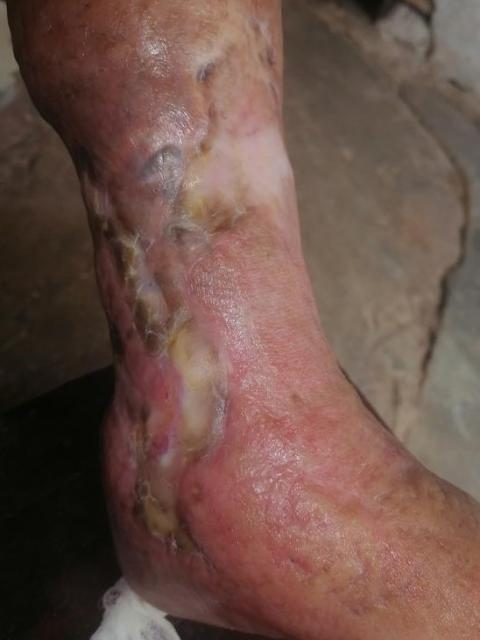wound: (94, 41, 287, 572)
